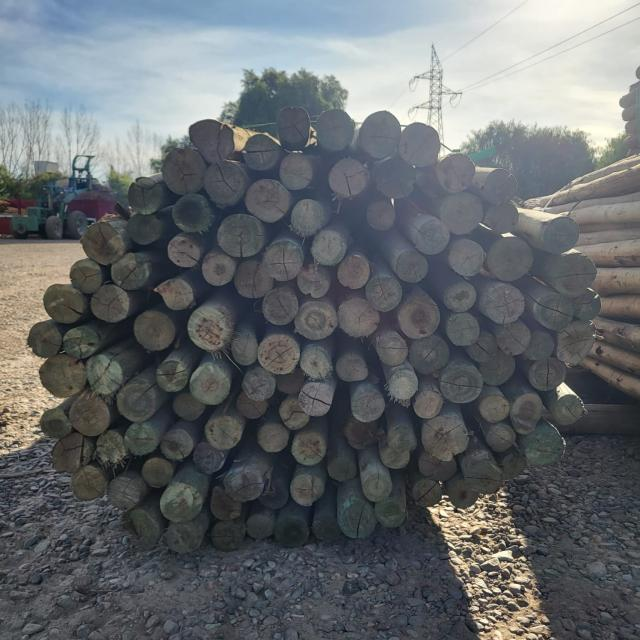package: (30, 105, 601, 554)
